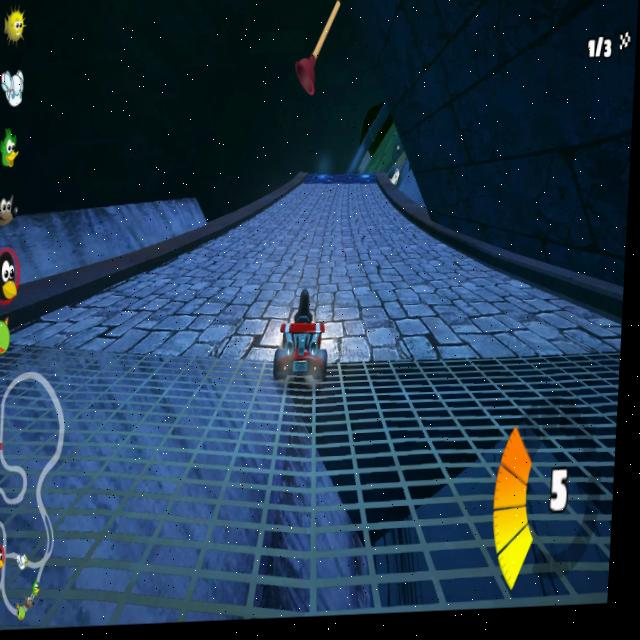player_kart: (268, 284, 331, 397)
